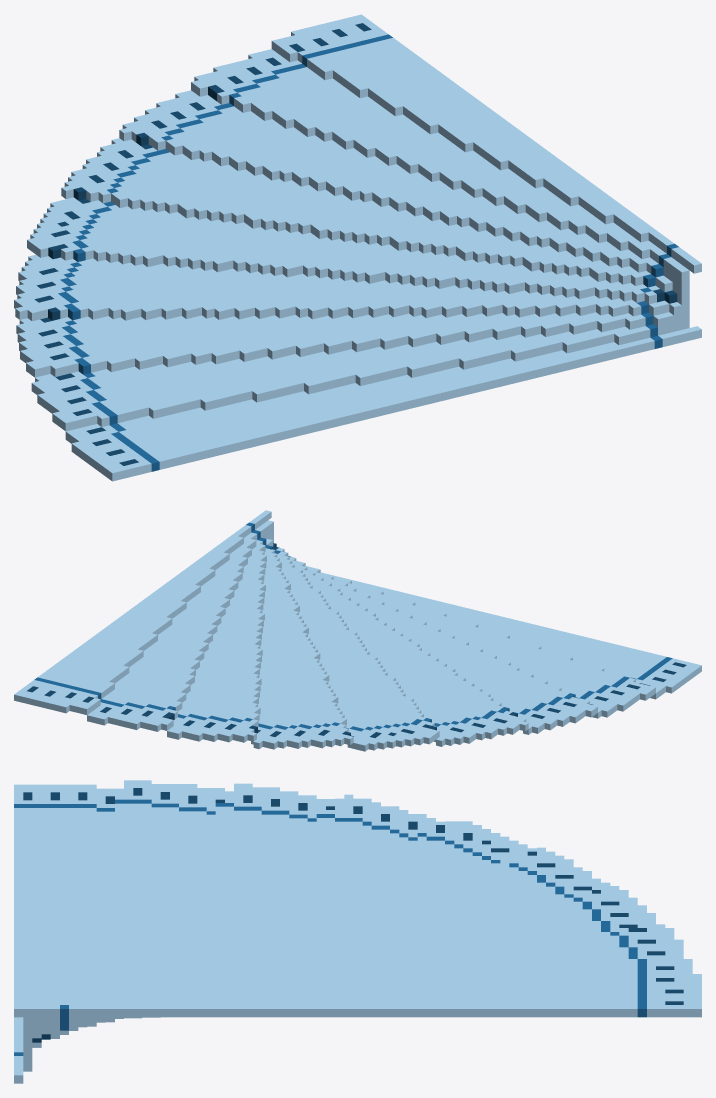
The model's file is Incline_90_right-0.obj.
The picture shows the model from 3 angles, top to bottom: view 1: azimuth 30°, elevation 25°; view 2: azimuth 150°, elevation 25°; view 3: azimuth 270°, elevation 25°; orthographic projection. The views are drawn at different scales.
Visible parts, largest first — view 1: Incline_90_right-0; view 2: Incline_90_right-0; view 3: Incline_90_right-0.
Part boxes in pixels (left/top/right/bottom): Incline_90_right-0: left=14, top=14, right=701, bottom=481; Incline_90_right-0: left=14, top=510, right=701, bottom=751; Incline_90_right-0: left=14, top=780, right=701, bottom=1083.
Bounding box in the file's own units: 75 × 9 × 75.
1 material, 1 textured.
